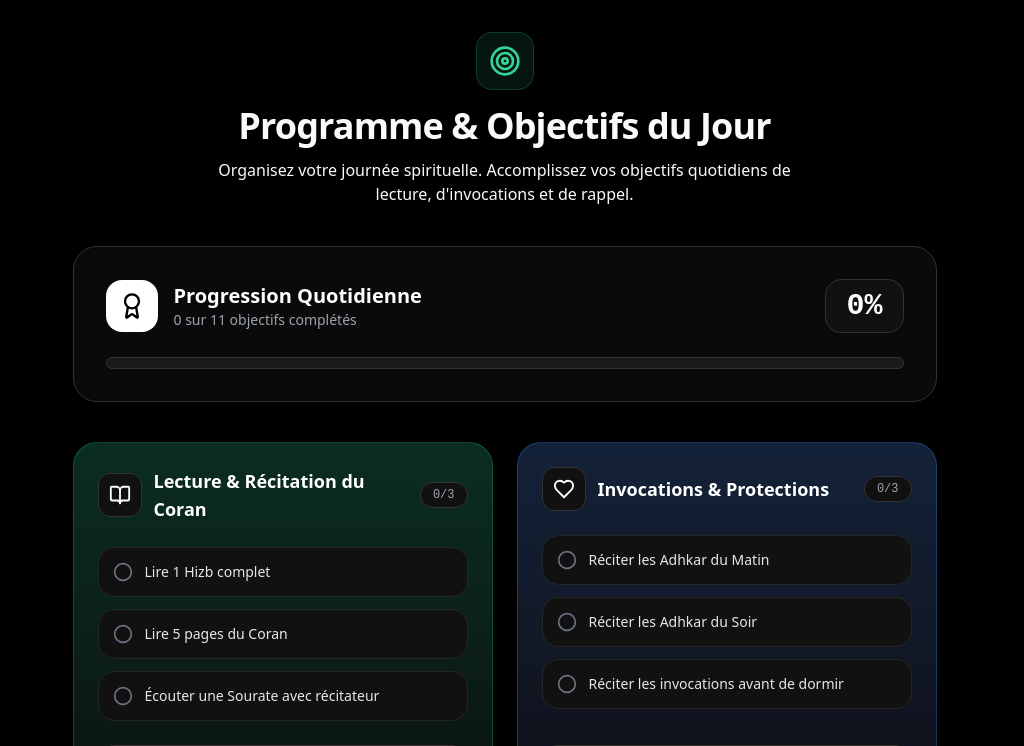
Test: Goals page › progress bar width updates when goals are toggled
Click the text "Lire 1 Hizb complet" at (207, 572), box [144,562,270,582]
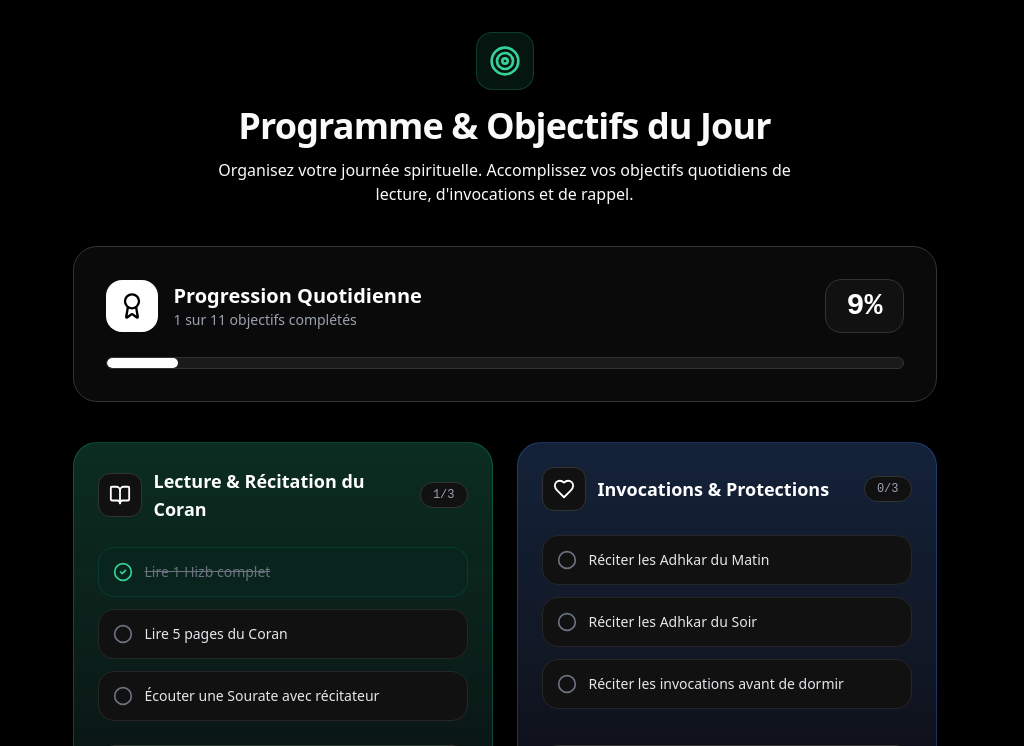
Expected: the text "9%" is shown, [826,279,904,333]
